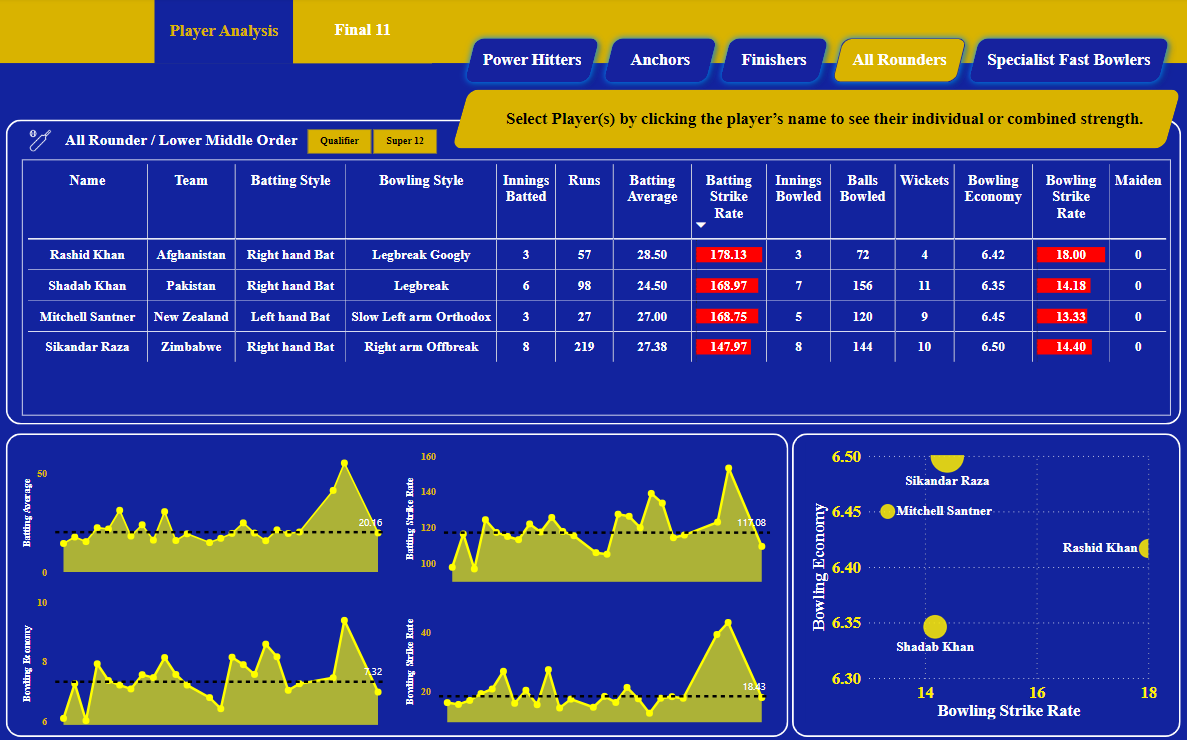

The dashboard page shown, as its layout file describes it:
{"tool":"powerbi","page":{"name":"New All Rounders / Lower Middle Order","canvas":[1435,900],"ordinal":3},"visuals":[{"type":"shape","box":[0,79.9,1435.3,820.2],"z":0},{"type":"shape","box":[76.7,157.9,291,30.2],"z":0,"group":"g1"},{"type":"shape","box":[10.6,147.8,1417.2,367.9],"z":1000},{"type":"image","box":[30.2,155.3,44,36],"z":1000,"group":"g1"},{"type":"shape","box":[548.8,111.6,879,70.9],"z":2000},{"type":"shape","box":[958.9,526.2,468.9,366.4],"z":3000},{"type":"tableEx","fields":{"Values":["dim_players.Name","dim_players.Team","dim_players.Batting Style","dim_players.Bowling Style","Measure.Total Innings Batted","Measure.Total Runs","Measure.Batting Average","Measure.Strike Rate","Measure.Total Innings Bowled","Measure.Balls Bowled","Sum(fact_bowling_summary.Wickets)","Measure.Bowling Economy"]},"box":[30.2,196,1385.6,309],"z":4000},{"type":"card","fields":{"Values":["Measure.Batting Average"]},"box":[815.7,111.6,138.7,70.9],"z":5000},{"type":"slicer","fields":{"Values":["dim_match_summary.Stage"]},"box":[348.3,152.3,206.6,43.7],"z":6000},{"type":"scatterChart","fields":{"Category":["dim_players.Name"],"Size":["Measure.Total Runs"],"Y":["Measure.Bowling Economy"],"X":["Measure.Bowling Strike Rate"]},"box":[975.5,536.7,428.2,339.2],"z":7000},{"type":"card","fields":{"Values":["Measure.Bowling Economy"]},"box":[1117.2,111.6,123.6,70.9],"z":8000},{"type":"card","fields":{"Values":["Measure.Bowling Strike Rate"]},"box":[1260.4,111.6,123.6,70.9],"z":9000},{"type":"card","fields":{"Values":["Measure.Batting Strike Rate"]},"box":[975.5,111.6,125.1,70.9],"z":10000},{"type":"actionButton","box":[554.8,40.7,180.9,70.9],"z":11000},{"type":"actionButton","box":[722.2,40.7,155.3,70.9],"z":12000},{"type":"actionButton","box":[1162.4,40.7,260.8,70.9],"z":13000},{"type":"actionButton","box":[998.1,40.7,180.9,70.9],"z":14000},{"type":"actionButton","box":[862.4,40.7,149.3,70.9],"z":15000},{"type":"shape","box":[10.6,526.2,943.8,366.4],"z":16000},{"type":"areaChart","fields":{"Y":["Measure.Batting Strike Rate"],"Category":["dim_match_summary.Match Date"]},"box":[488.5,539.7,449.3,170.4],"z":17000},{"type":"areaChart","fields":{"Y":["Measure.Bowling Strike Rate"],"Category":["dim_match_summary.Match Date"]},"box":[488.5,716.1,449.3,170.4],"z":18000},{"type":"areaChart","fields":{"Y":["Measure.Bowling Economy"],"Category":["dim_match_summary.Match Date"]},"box":[25.6,716.1,449.3,170],"z":19000},{"type":"areaChart","fields":{"Y":["Measure.Batting Average"],"Category":["dim_match_summary.Match Date"]},"box":[25.6,536.7,449.3,170],"z":20000},{"type":"actionButton","box":[190,1.5,167.4,78.4],"z":21000},{"type":"actionButton","box":[357.3,0,167.4,79.9],"z":22000},{"type":"shape","box":[585,125.1,215.6,43.7],"z":23000},{"type":"shape","box":[612.1,125.1,771.9,43.7],"z":24000},{"type":"group","id":"g1","title":"Group 2","box":[30.2,155.3,337.5,36],"z":25001}]}

Visuals, with their boxes in screenshot pixels (x1, y1, x2, y2), scaled from the page's 1435x900 canvas onto the 1187x740 screenshot:
shape: region(0, 66, 1186, 739)
shape: region(63, 130, 304, 155)
shape: region(9, 122, 1181, 424)
image: region(25, 128, 61, 157)
shape: region(454, 92, 1181, 150)
shape: region(793, 433, 1181, 734)
tableEx - dim_players.Name x dim_players.Team: region(25, 161, 1171, 415)
card - Measure.Batting Average: region(675, 92, 789, 150)
slicer - dim_match_summary.Stage: region(288, 125, 459, 161)
scatterChart - dim_players.Name x Measure.Total Runs: region(807, 441, 1161, 720)
card - Measure.Bowling Economy: region(924, 92, 1026, 150)
card - Measure.Bowling Strike Rate: region(1043, 92, 1145, 150)
card - Measure.Batting Strike Rate: region(807, 92, 910, 150)
actionButton: region(459, 33, 609, 92)
actionButton: region(597, 33, 726, 92)
actionButton: region(962, 33, 1177, 92)
actionButton: region(826, 33, 975, 92)
actionButton: region(713, 33, 837, 92)
shape: region(9, 433, 789, 734)
areaChart - Measure.Batting Strike Rate x dim_match_summary.Match Date: region(404, 444, 776, 584)
areaChart - Measure.Bowling Strike Rate x dim_match_summary.Match Date: region(404, 589, 776, 729)
areaChart - Measure.Bowling Economy x dim_match_summary.Match Date: region(21, 589, 393, 729)
areaChart - Measure.Batting Average x dim_match_summary.Match Date: region(21, 441, 393, 581)
actionButton: region(157, 1, 296, 66)
actionButton: region(296, 0, 434, 66)
shape: region(484, 103, 662, 139)
shape: region(506, 103, 1145, 139)
"Group 2" group: region(25, 128, 304, 157)
